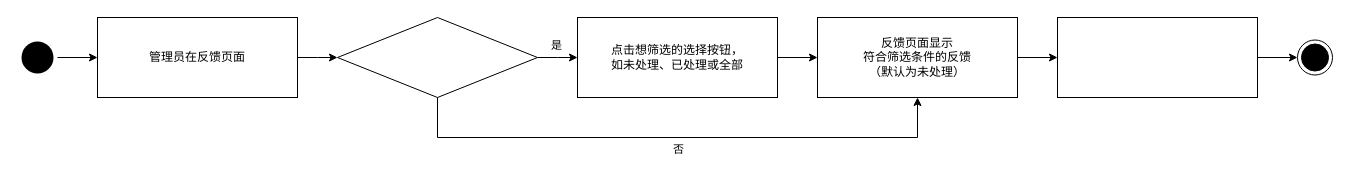
This 1350x173 diagram has some shape labels left out. Here are the shapes that lost their labels. From the top down, the box of each, then its label:
(336, 16, 538, 98): 筛选
(1056, 16, 1258, 98): 点击想查看的反馈 跳转到该反馈页面
